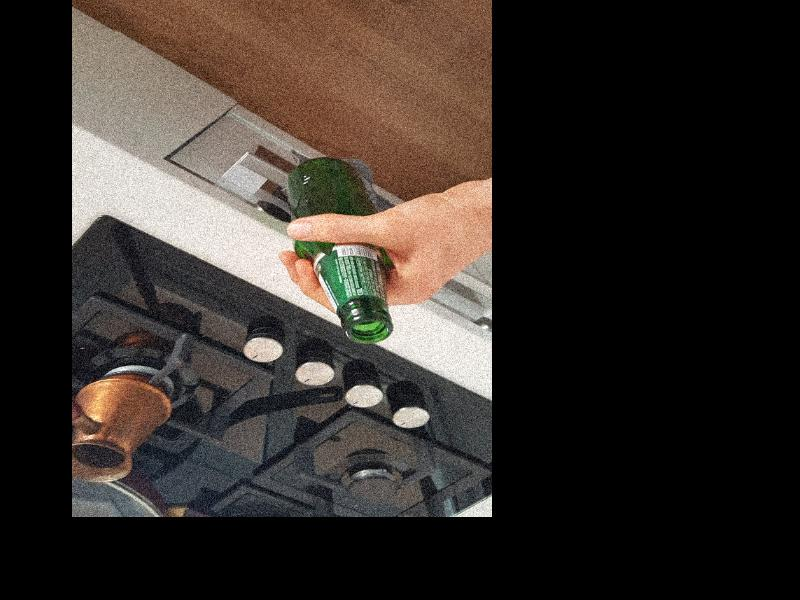Beer: (288, 156, 392, 343)
